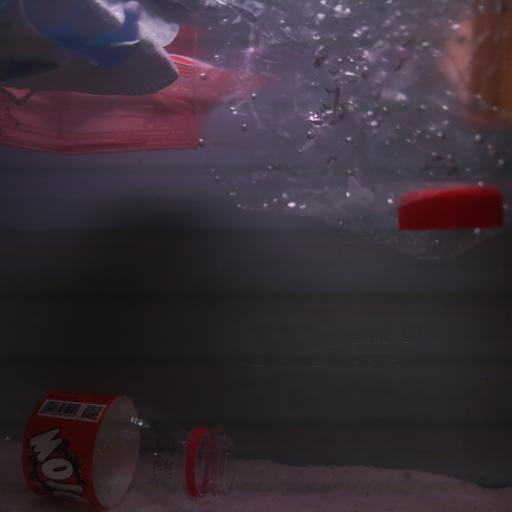bottle_cap: (401, 183, 511, 231)
mask: (7, 61, 246, 157), (3, 0, 176, 108)
plastic_bag: (210, 6, 512, 266)
plastic_bottle: (0, 391, 233, 509)
